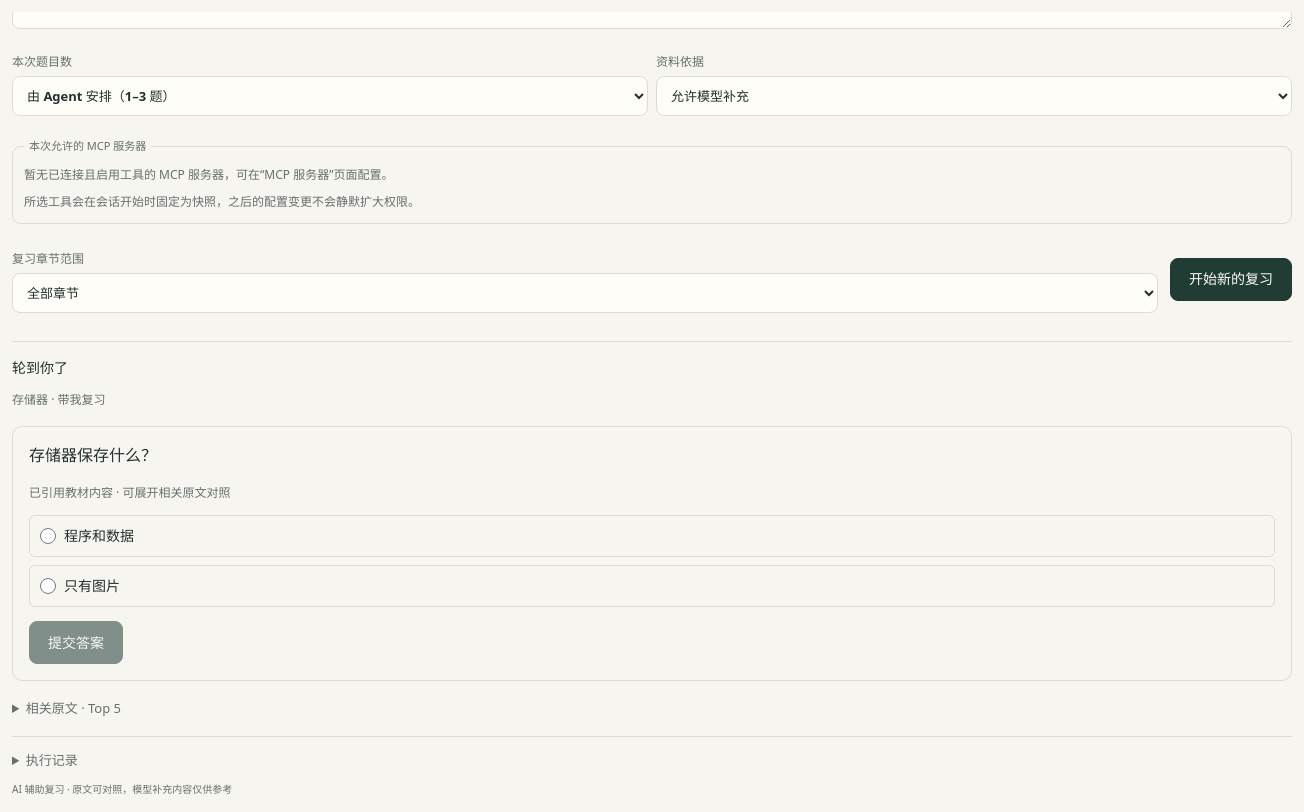
Test: distinguishes budget estimates and workflow checks from content correctness
(page scrolled)
expect the heading "存储器保存什么？" is shown: met, box [29,444,157,466]
Click the heading "执行记录": [52, 760] box [26,751,78,769]
(page scrolled)
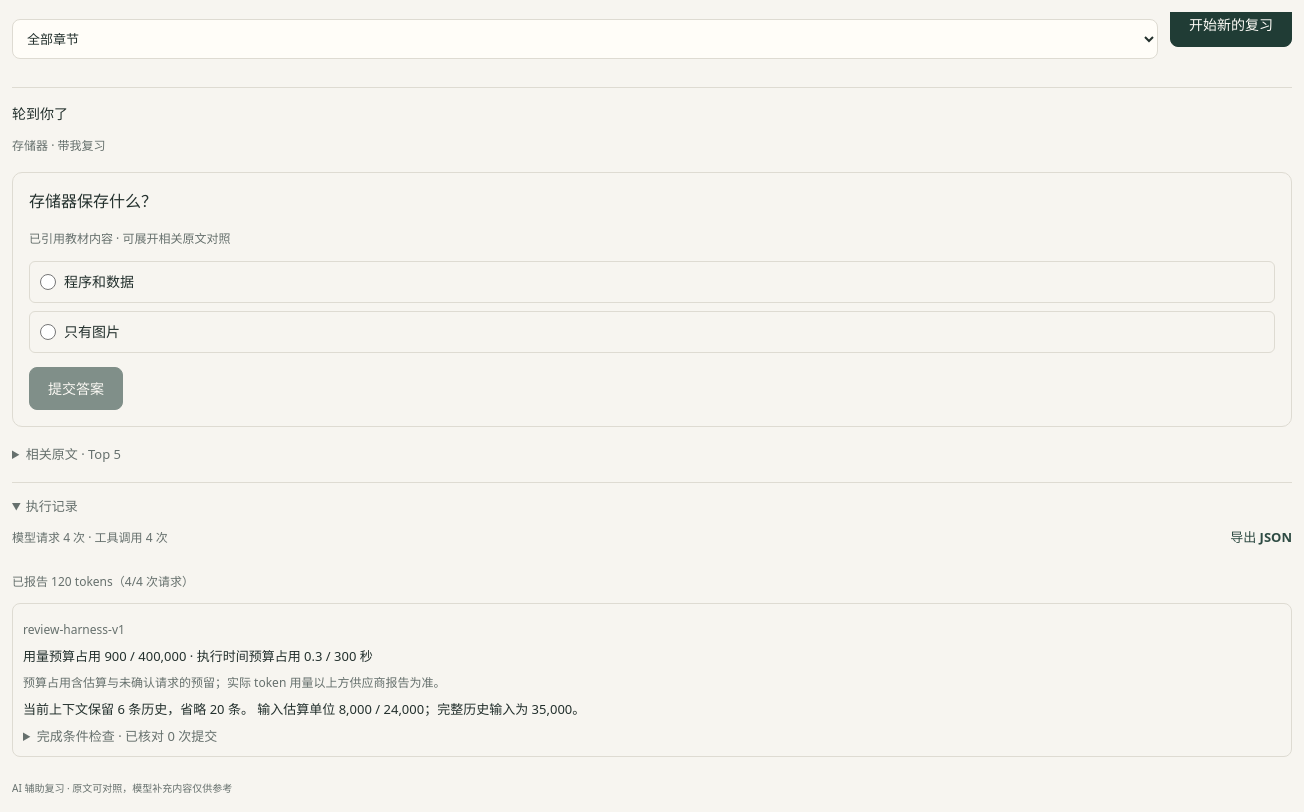
expect the text "预算占用含估算与未确认请求的预留；实际 token 用量以上方供应商报告为准。" is shown: met, box [23,674,445,691]
expect the text "当前上下文保留 6 条历史，省略 20 条。 输入估算单位 8,000 / 24,000；完整历史输入为 35,000。" is shown: met, box [23,700,585,718]
Click the heading "完成条件检查 · 已核对 0 次提交": [127, 736] box [37,727,217,745]
(page scrolled)
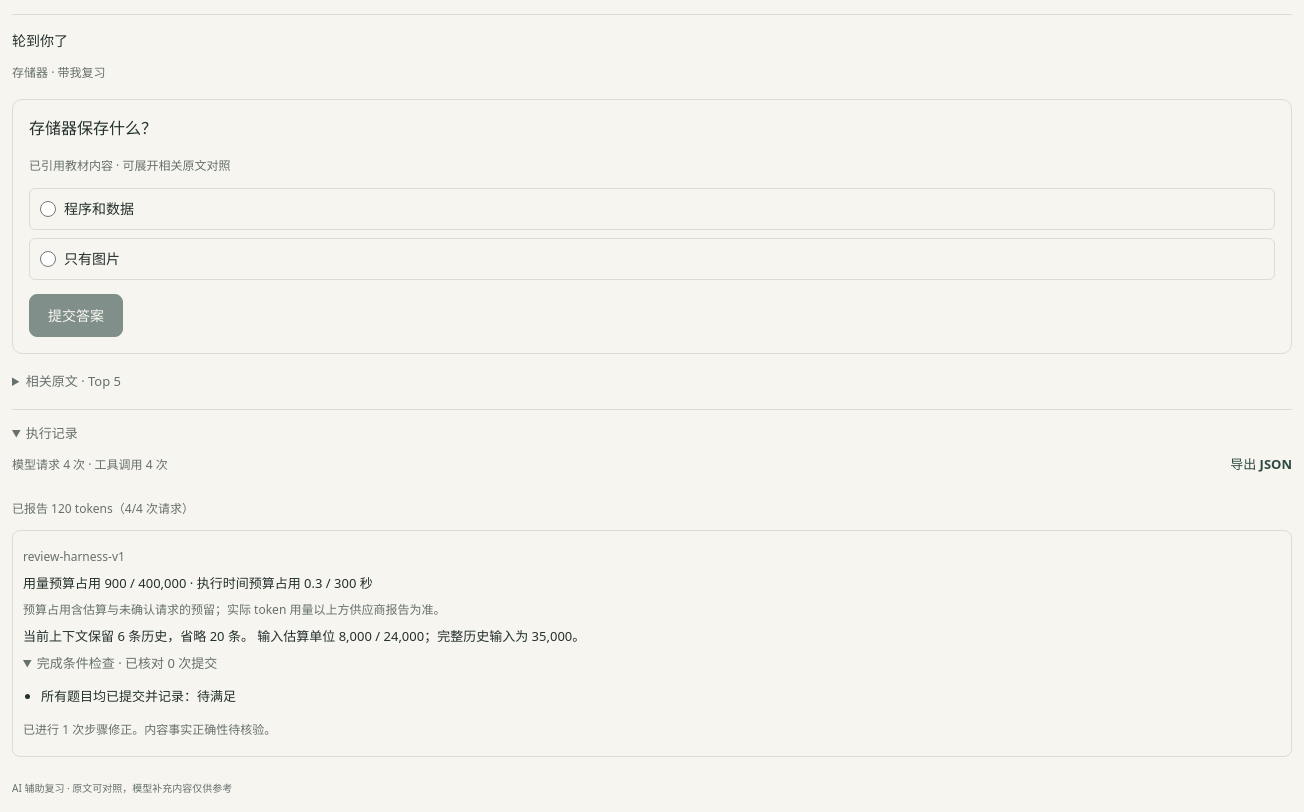
expect the list item "所有题目均已提交并记录：待满足" is shown: met, box [41,688,236,706]
expect the text "已进行 1 次步骤修正。内容事实正确性待核验。" is shown: met, box [23,721,276,738]
